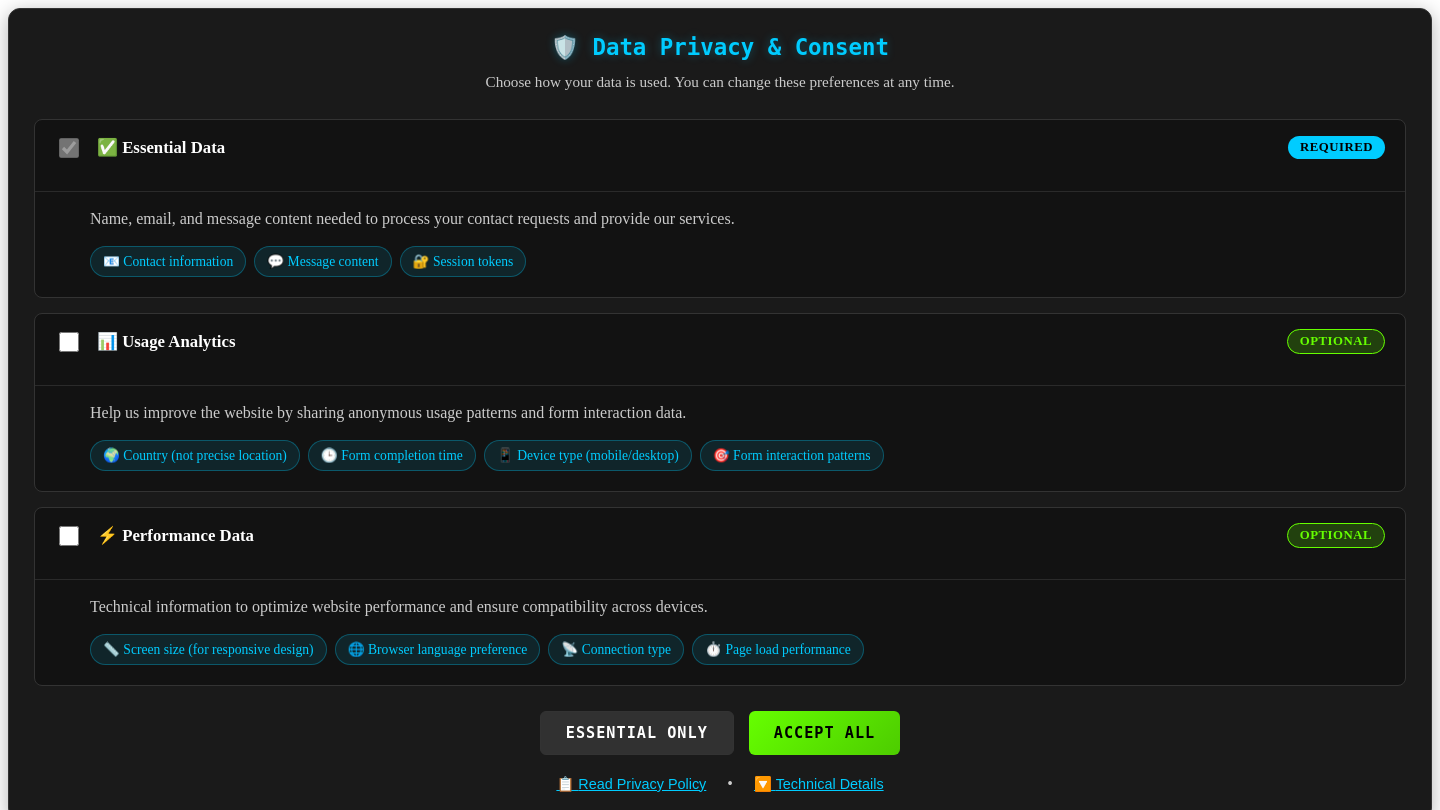
Test: PrivacyConsent Component › Accept All button › checks analytics checkbox after Accept All
The width and height of the screenshot is (1440, 810).
Click the button "Accept All" at {"x": 824, "y": 733}, box [749,711,900,755]
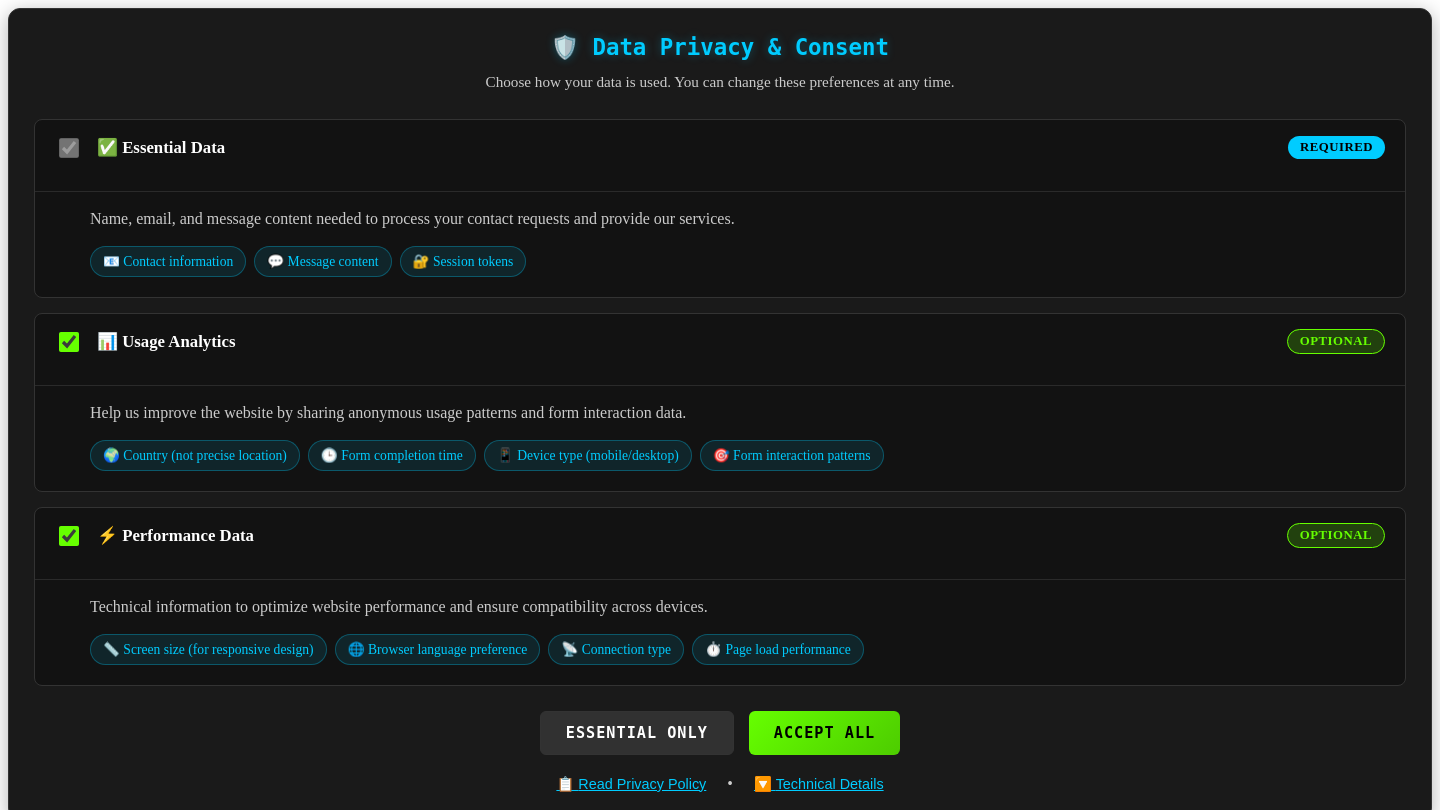
Check: the checkbox labelled "📊 Usage Analytics Optional" is checked, box [59,332,79,352]
